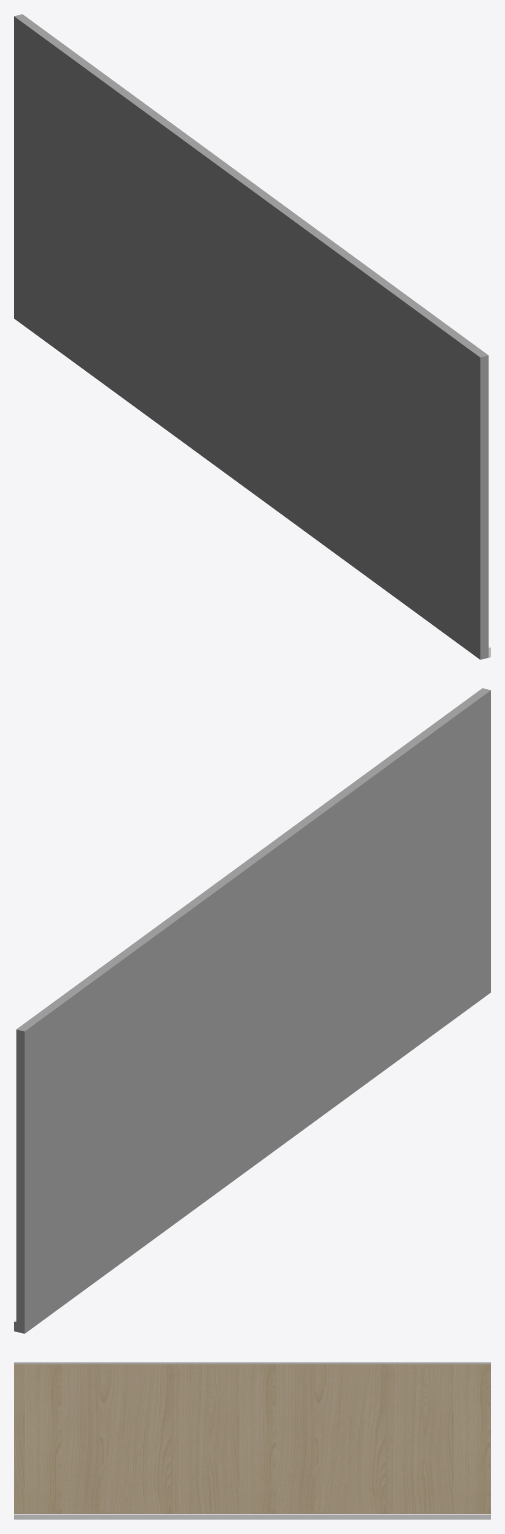
The model's file is Wall 2.FBX.
3 views of the same model, one above another, from view 1: azimuth 30°, elevation 25°; view 2: azimuth 150°, elevation 25°; view 3: azimuth 270°, elevation 25° (orthographic). The views are drawn at different scales.
Parts seen in each view (by area): view 1: Wall 2; view 2: Wall 2; view 3: Wall 2.
Boxes of the visible parts, box(x1,y1,x2,y2) form: Wall 2: box(14, 14, 490, 659); Wall 2: box(14, 688, 490, 1333); Wall 2: box(14, 1362, 490, 1519).
Size of the model in its own units: 11.98 by 323 by 904.
Materials: 3 (1 with a texture image).
